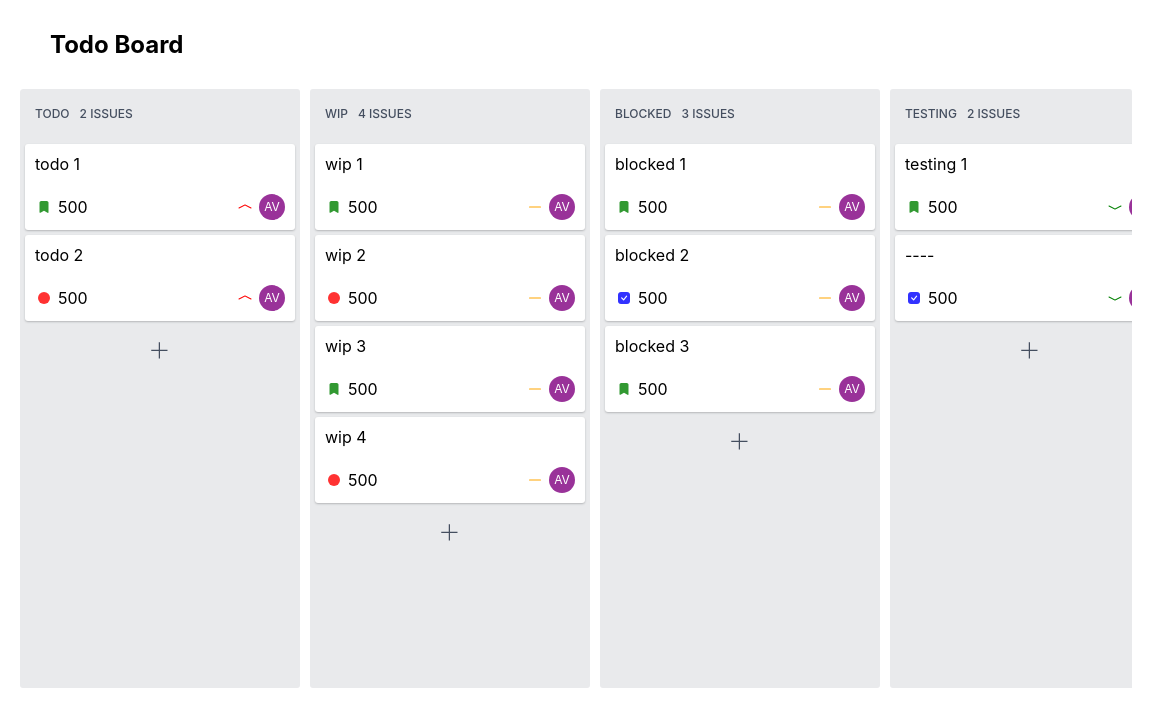
Scenario: test 1 : card add and delete › add card
Step 1. Click the button without text below "todo 1" → (160, 351), box [25,326,295,376]
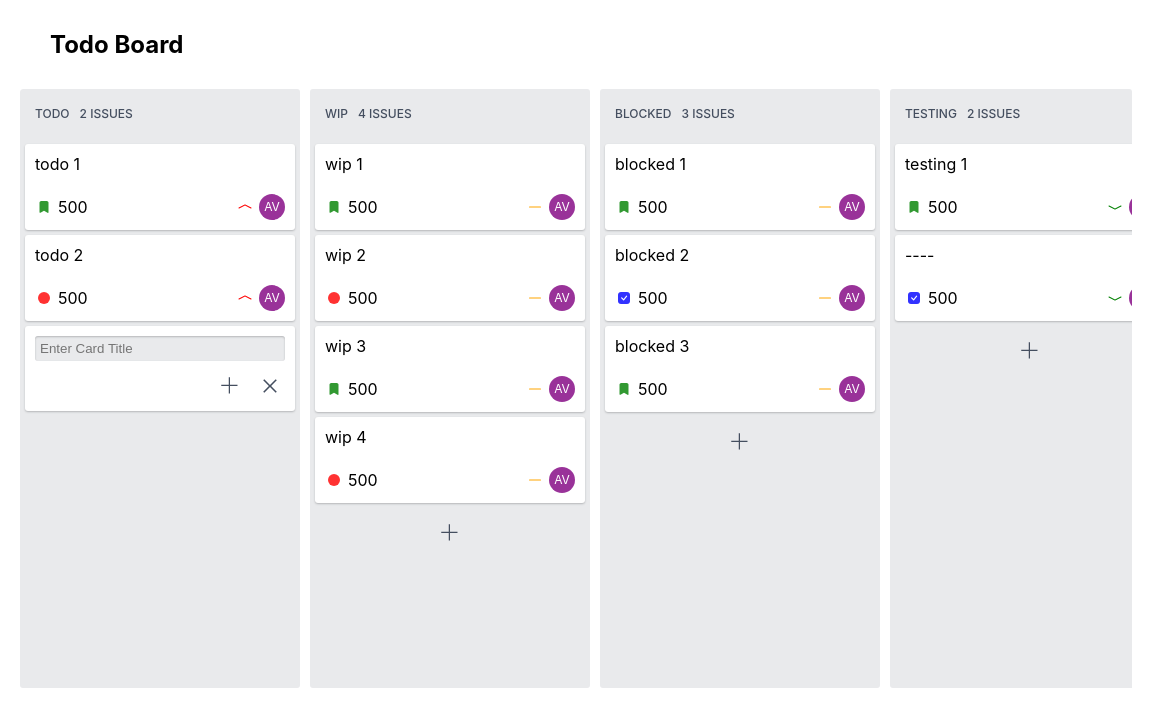
Step 2. Type "new card" into the field with placeholder "Enter Card Title" → (160, 349), box [35,336,285,361]
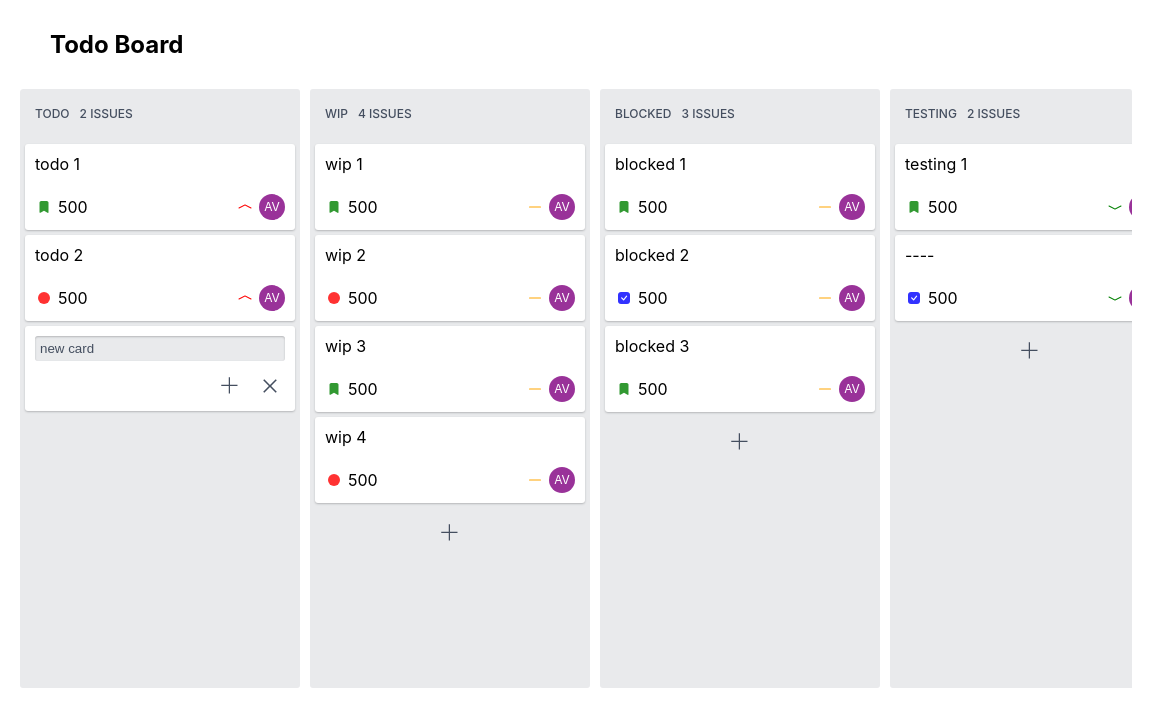
Step 3. Click the 2nd button → (230, 386), box [215,371,245,401]
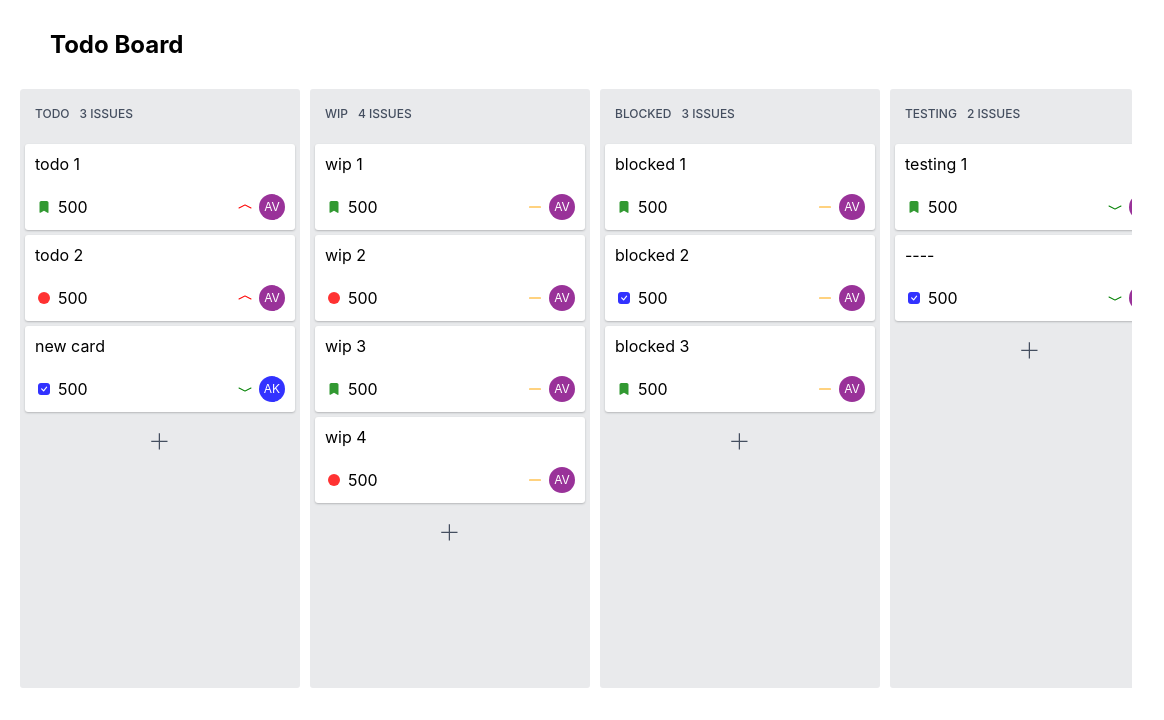
Check: the element showing "todo 1 500 AV todo 2 500 AV new card 500 AK" is shown, box [25,144,295,467]
